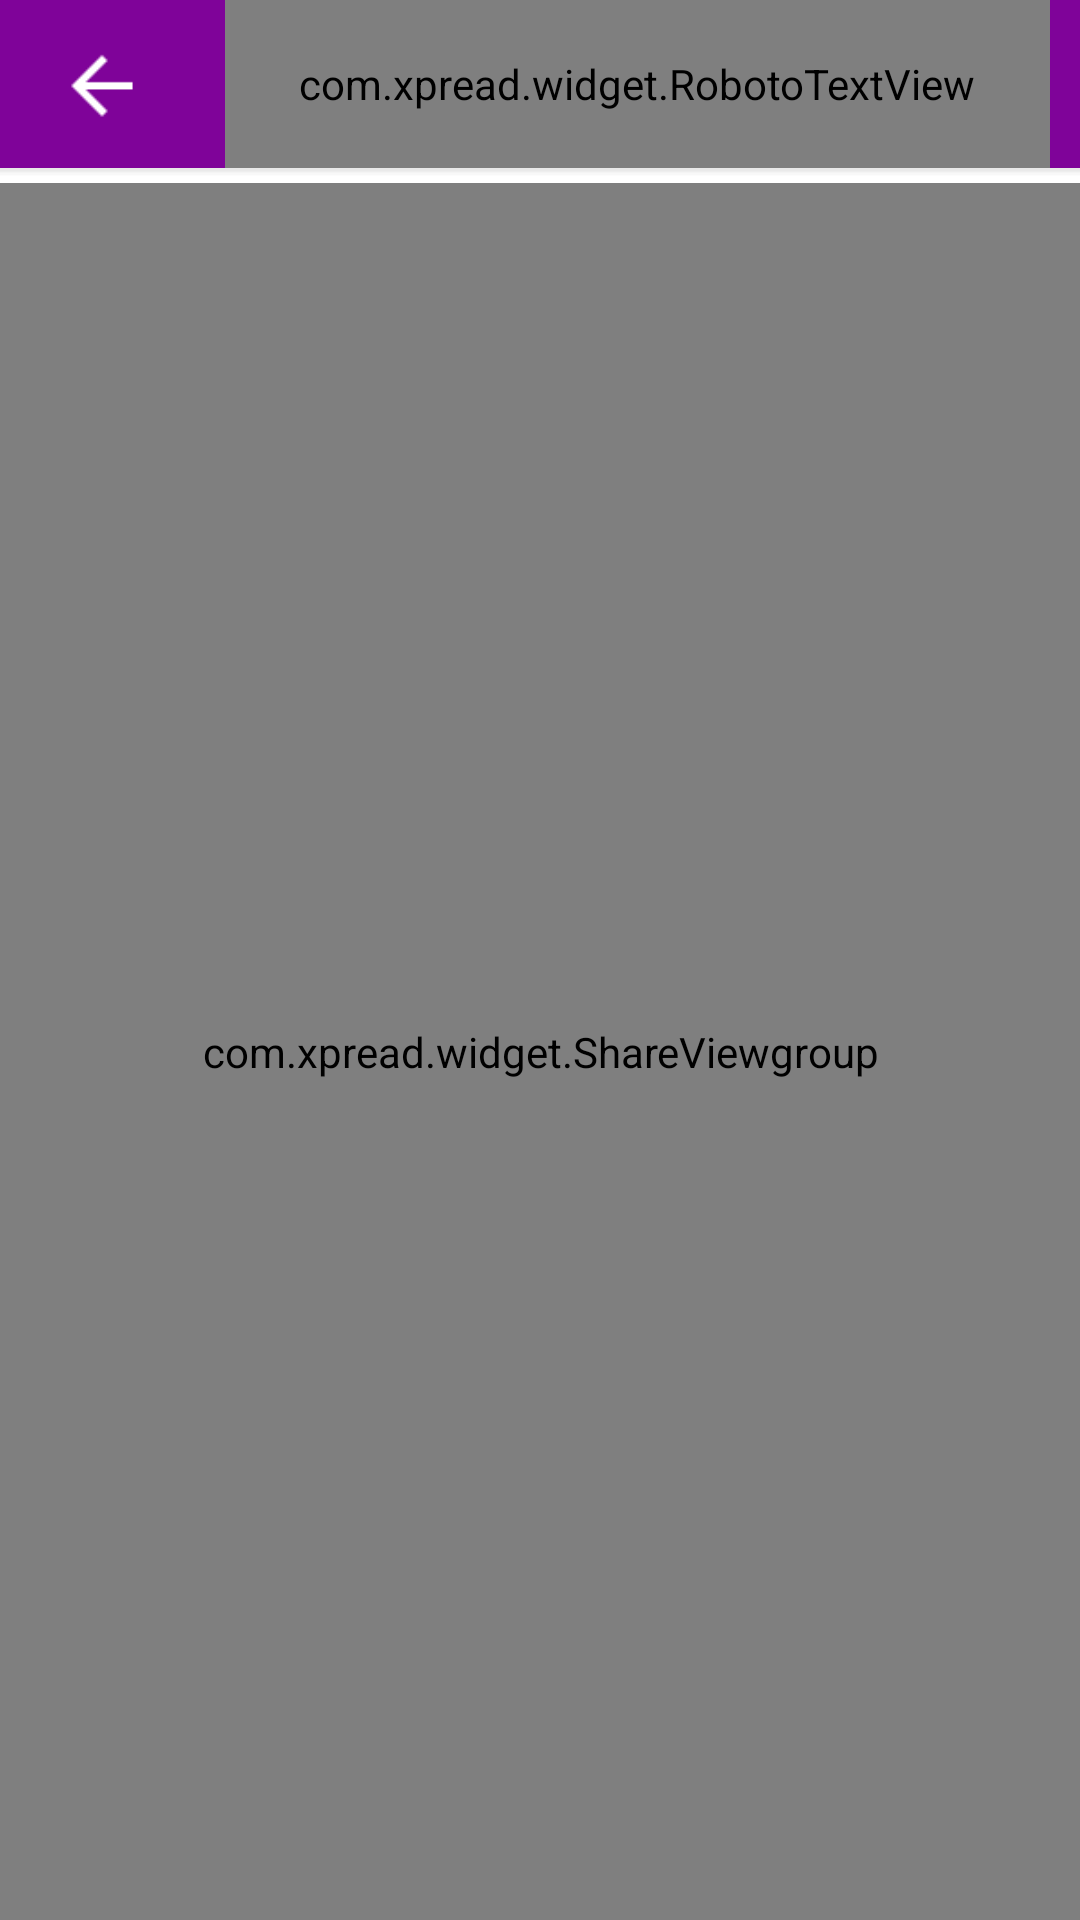

Point at icon controls on the screen. Image size 1080x1920, points as [x,y].
back: [102,86]
